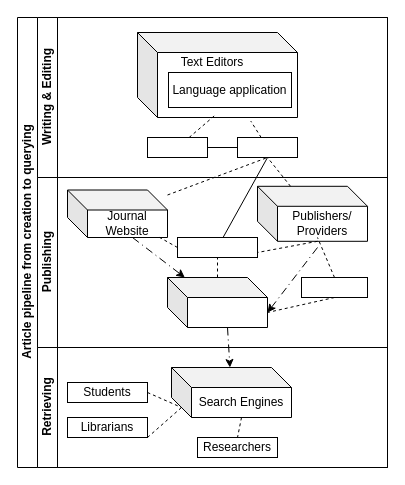
The diagram is 405 pixels wide and 485 high, and some of its shapes have lost their labels. Each missing label, with the centre of its shape:
Authors: point (177, 147)
Developpers: point (217, 247)
Editors: point (267, 147)
Indexers: point (217, 302)
Ontologists: point (334, 287)
